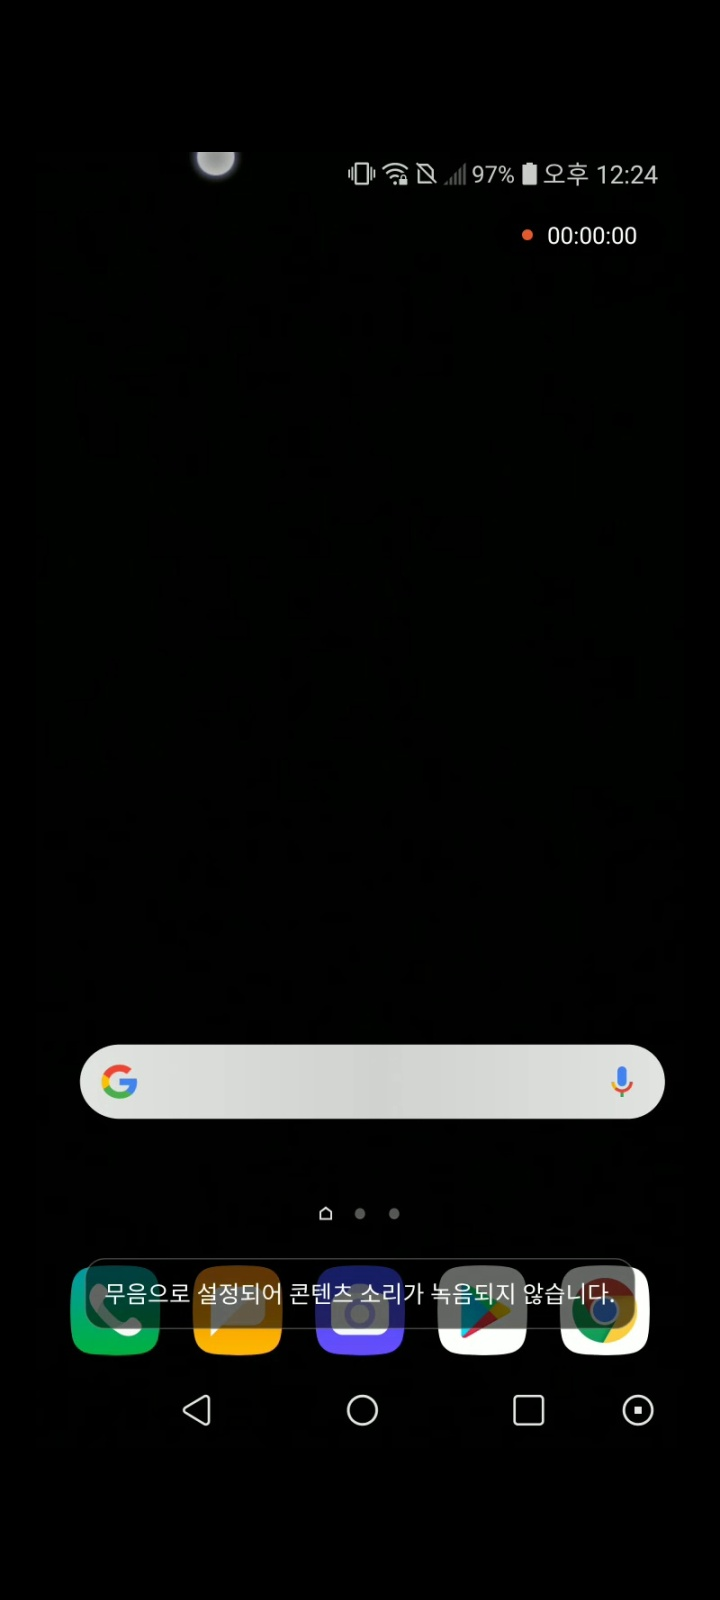Cursor: (192, 153, 240, 182)
